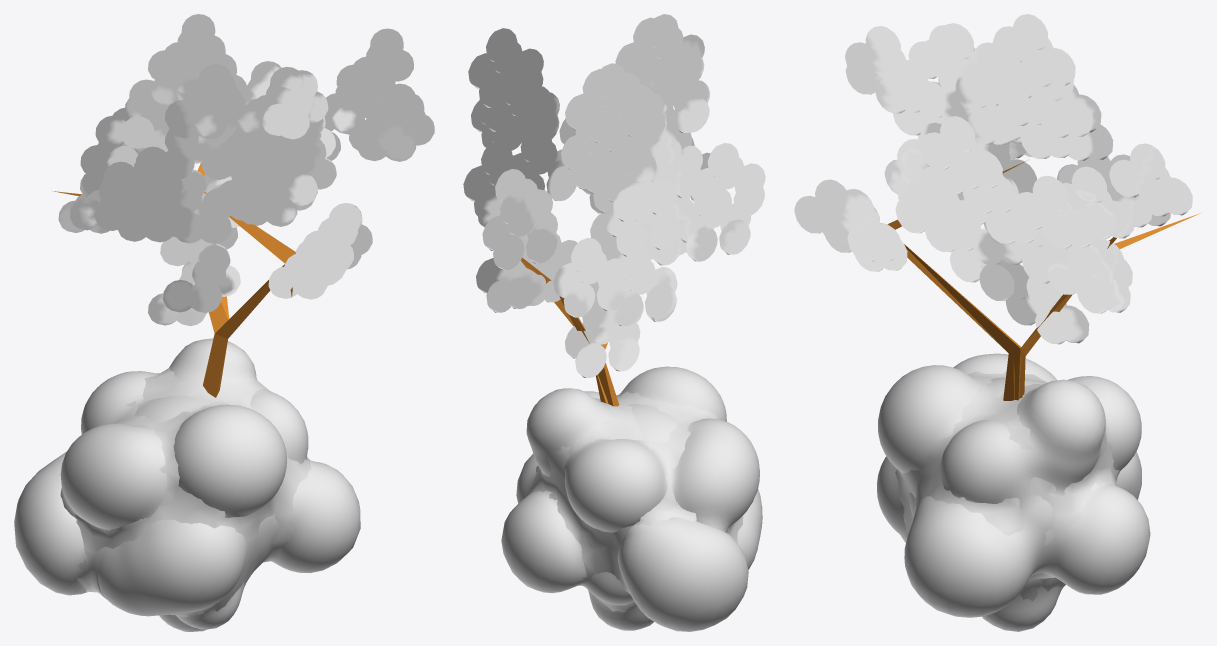
Rendered from tree3.fbx.
The picture shows the model from 3 angles, left to right: view 1: azimuth 30°, elevation 25°; view 2: azimuth 150°, elevation 25°; view 3: azimuth 270°, elevation 25°; orthographic projection. The views are drawn at different scales.
Visible parts, largest first — view 1: feuillage.001, particule, custom normals, Vert; view 2: feuillage.001, particule, custom normals, Vert; view 3: feuillage.001, particule, custom normals, Vert.
Boxes of the visible parts, bbox=[...] form: feuillage.001: bbox=[58, 14, 434, 326]; particule: bbox=[14, 338, 360, 631]; custom normals: bbox=[75, 367, 311, 617]; Vert: bbox=[52, 162, 295, 397]; feuillage.001: bbox=[463, 14, 765, 377]; particule: bbox=[501, 366, 762, 631]; custom normals: bbox=[527, 391, 743, 612]; Vert: bbox=[521, 257, 619, 406]; feuillage.001: bbox=[794, 14, 1192, 344]; particule: bbox=[877, 353, 1150, 631]; custom normals: bbox=[895, 371, 1119, 601]; Vert: bbox=[887, 161, 1200, 400].
Bounding box in the file's own units: 680 × 1132 × 678.
